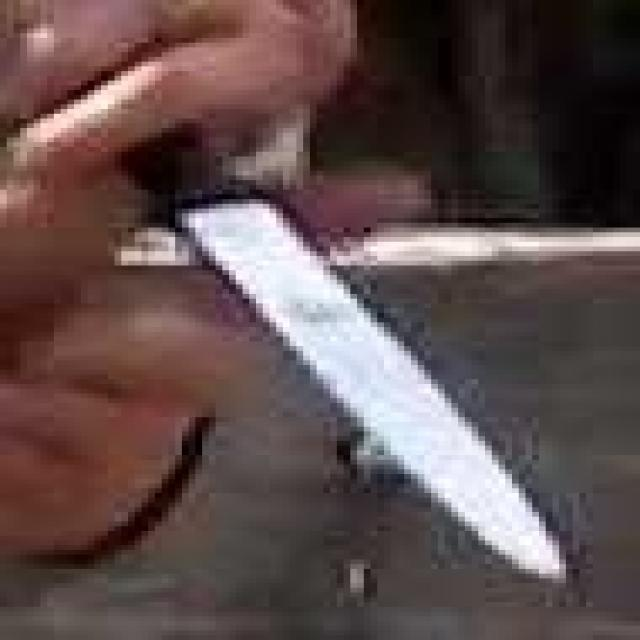Knife: (48, 48, 587, 589)
